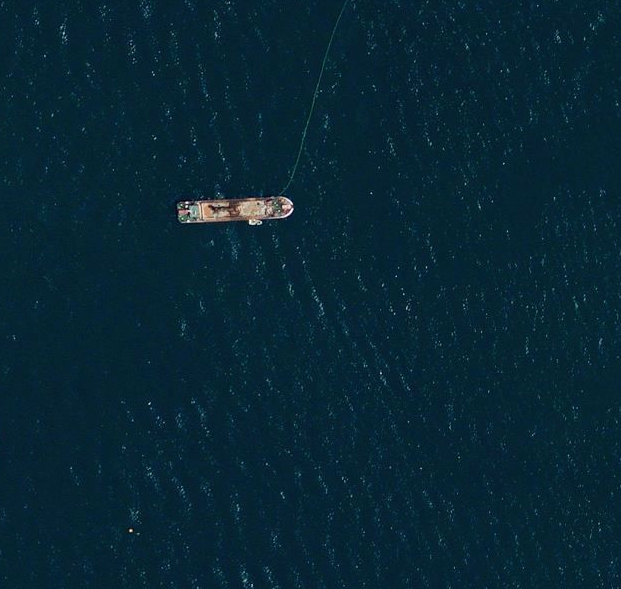ship: (169, 196, 308, 231)
